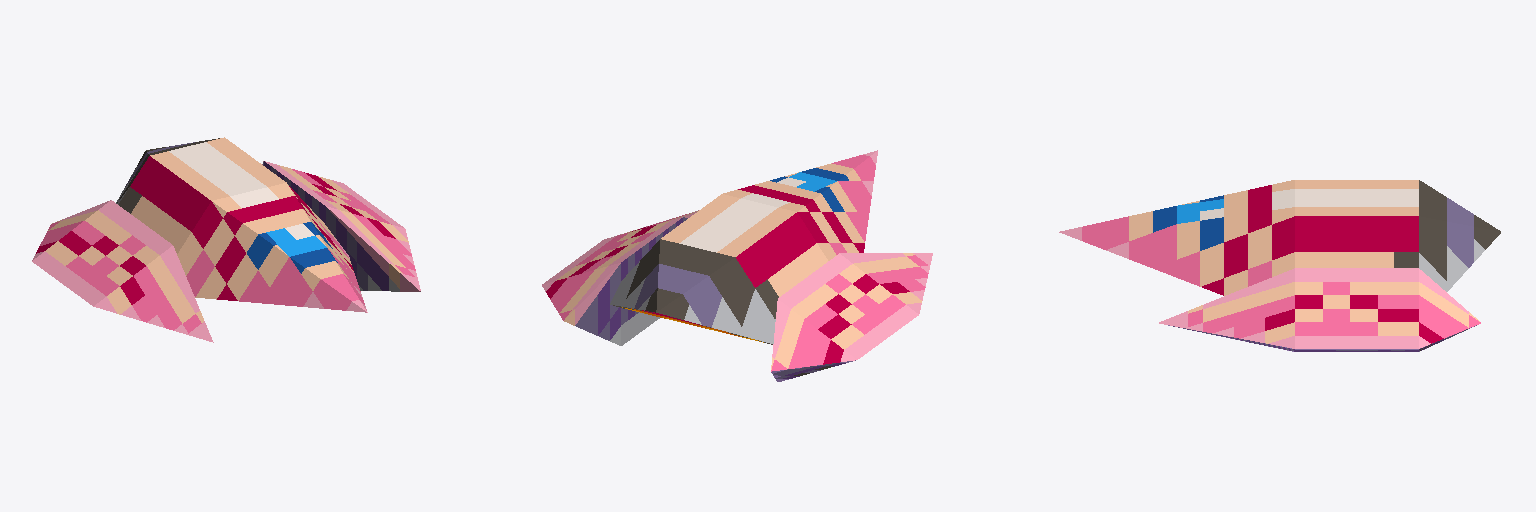
3 views of the same model, side by side, from view 1: azimuth 30°, elevation 25°; view 2: azimuth 150°, elevation 25°; view 3: azimuth 270°, elevation 25° (orthographic).
Visible parts, largest first — view 1: Aline_fighter; view 2: Aline_fighter; view 3: Aline_fighter.
Part boxes in pixels (x1,y1,x2,y2): Aline_fighter: (32,137,420,342); Aline_fighter: (542,150,932,381); Aline_fighter: (1059,180,1500,351).
Bounding box in the file's own units: 1.47 × 0.522 × 1.8.
Materials: 1 (1 with a texture image).